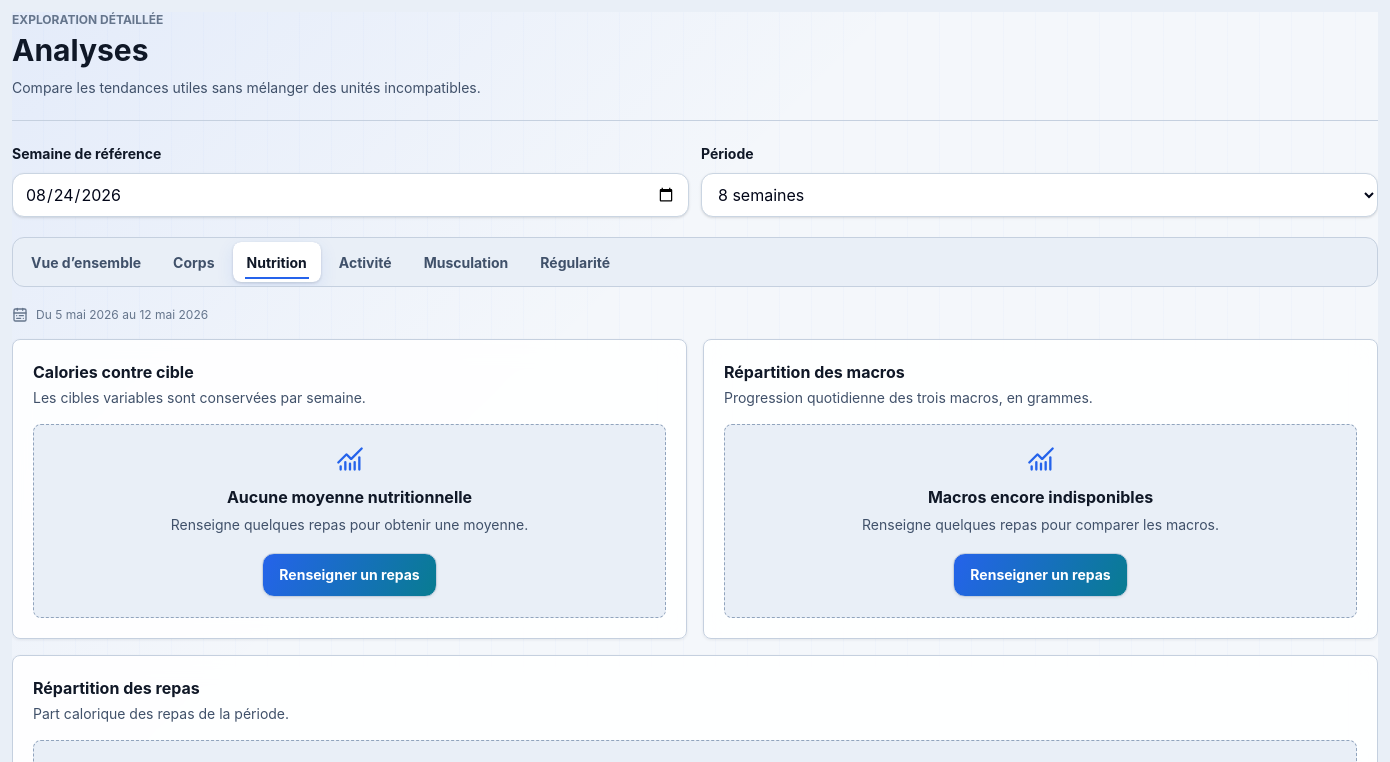
Scenario: conserve le domaine et la période dans l’URL
expect the heading "Analyses" is shown: met, box [12,32,148,68]
expect the heading "Calories contre cible" is shown: met, box [33,362,194,382]
Step 1. Select "4 semaines" in the dropdown labelled "Période" → (1040, 195), box [701,173,1378,217]
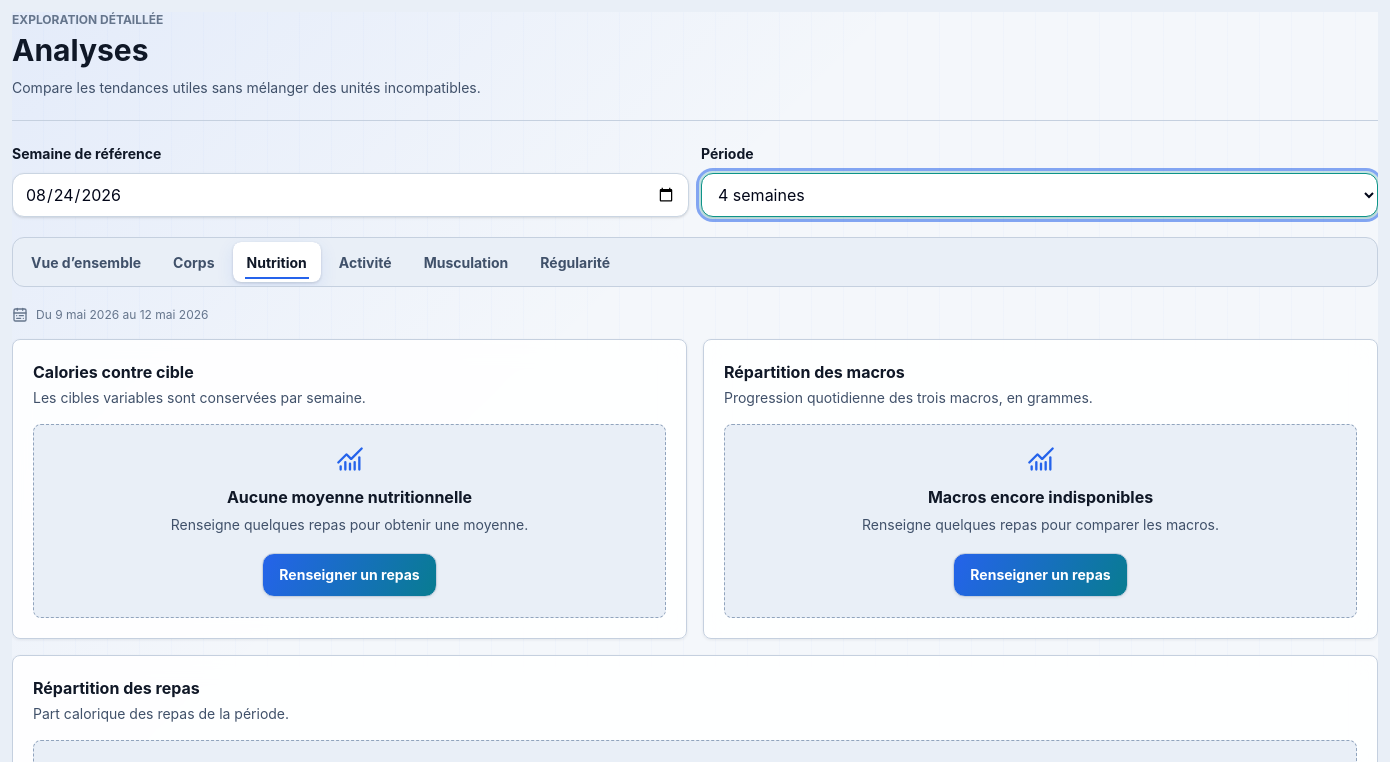
Step 2. Click the tab "Activité" → (365, 262), box [325,242,406,282]
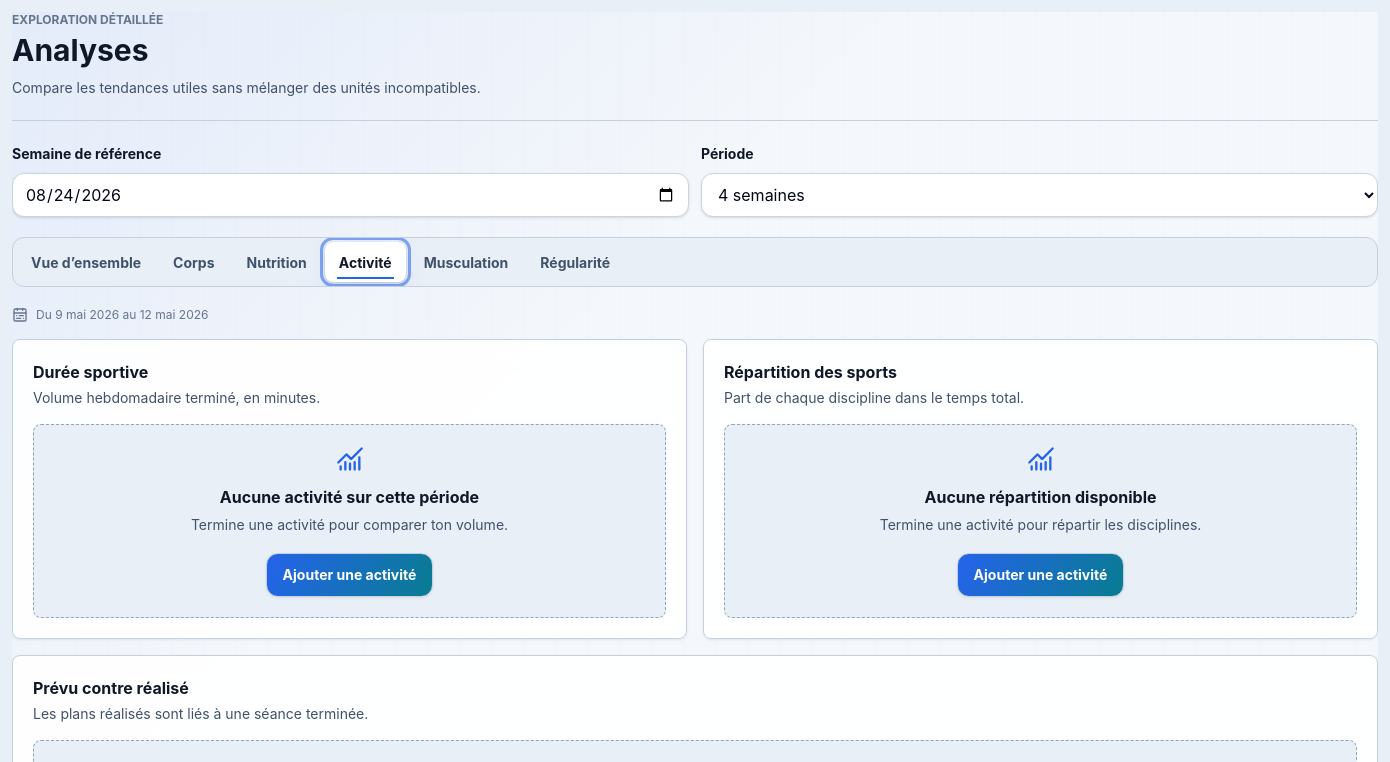
expect the heading "Durée sportive" is shown: met, box [33,362,148,382]
expect the heading "Aucune répartition disponible" is shown: met, box [924,487,1157,507]
